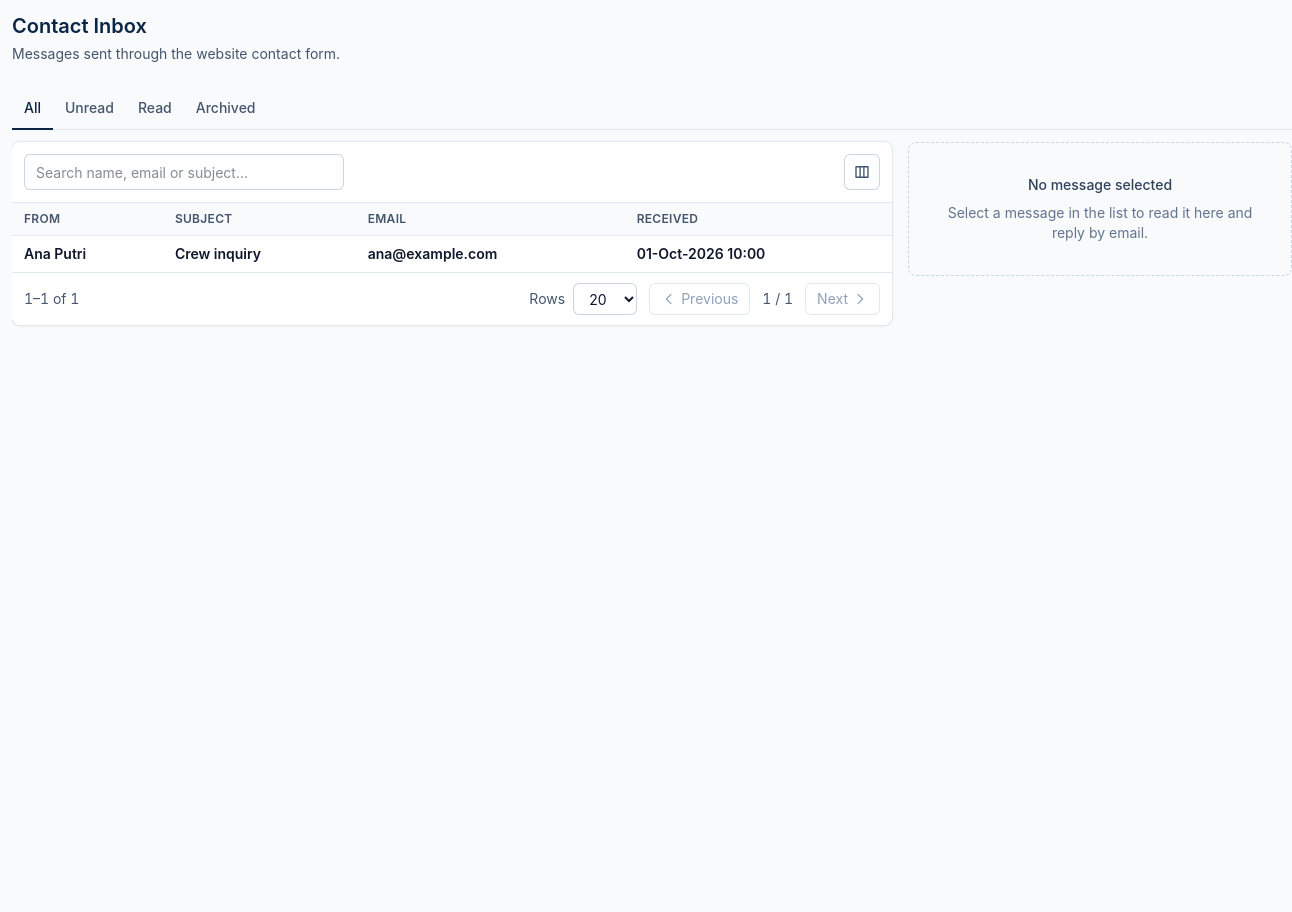
Test case: ContactInboxPage › archives the open message
Step 1. Click the text "Ana Putri" → {"x": 55, "y": 254}, box top-left (24, 245), bottom-right (86, 262)
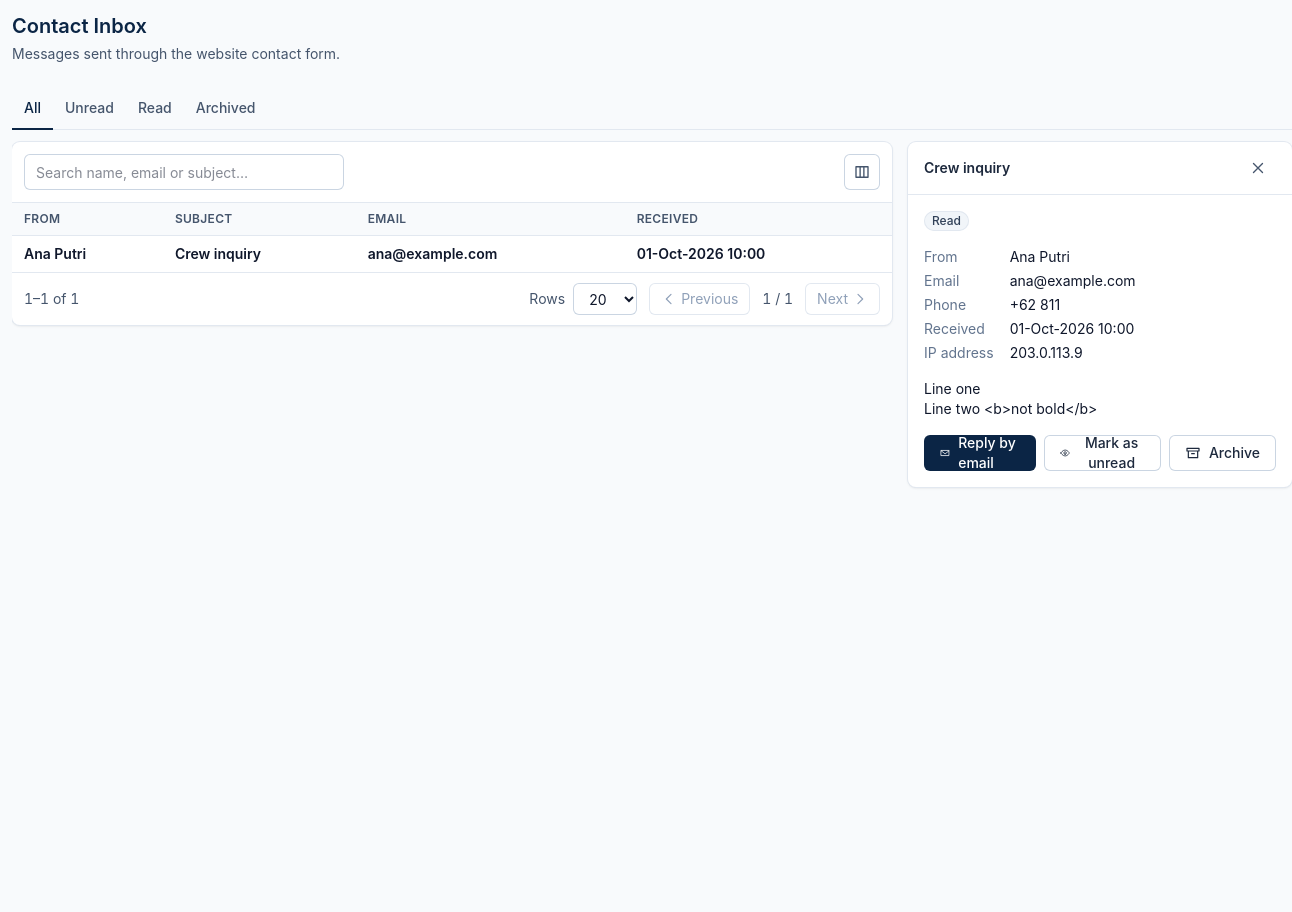
Step 2. Click the button "Archive" → {"x": 1222, "y": 453}, box top-left (1169, 435), bottom-right (1276, 471)
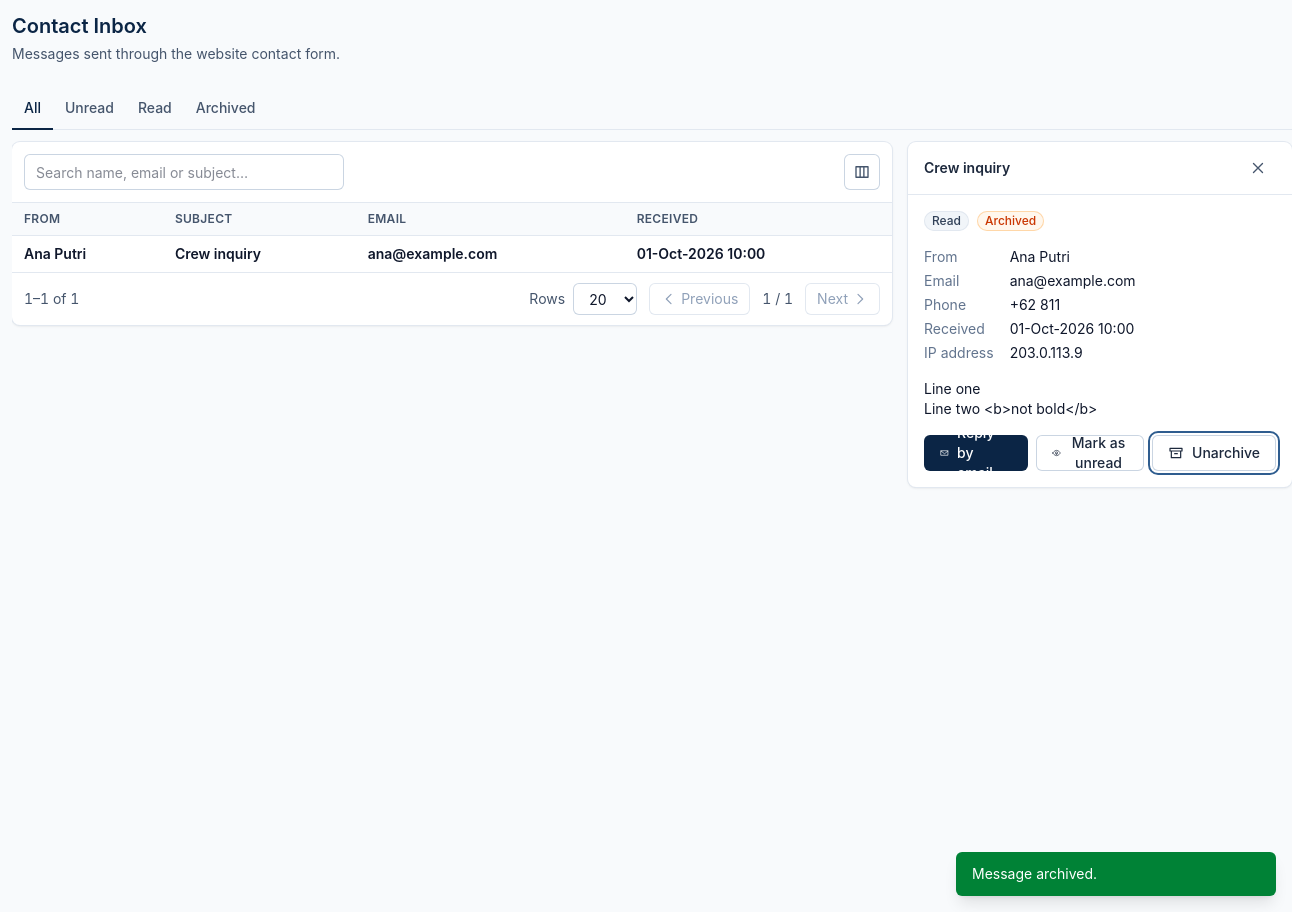
Expected: the button "Unarchive" is shown, top-left (1152, 435), bottom-right (1276, 471)
